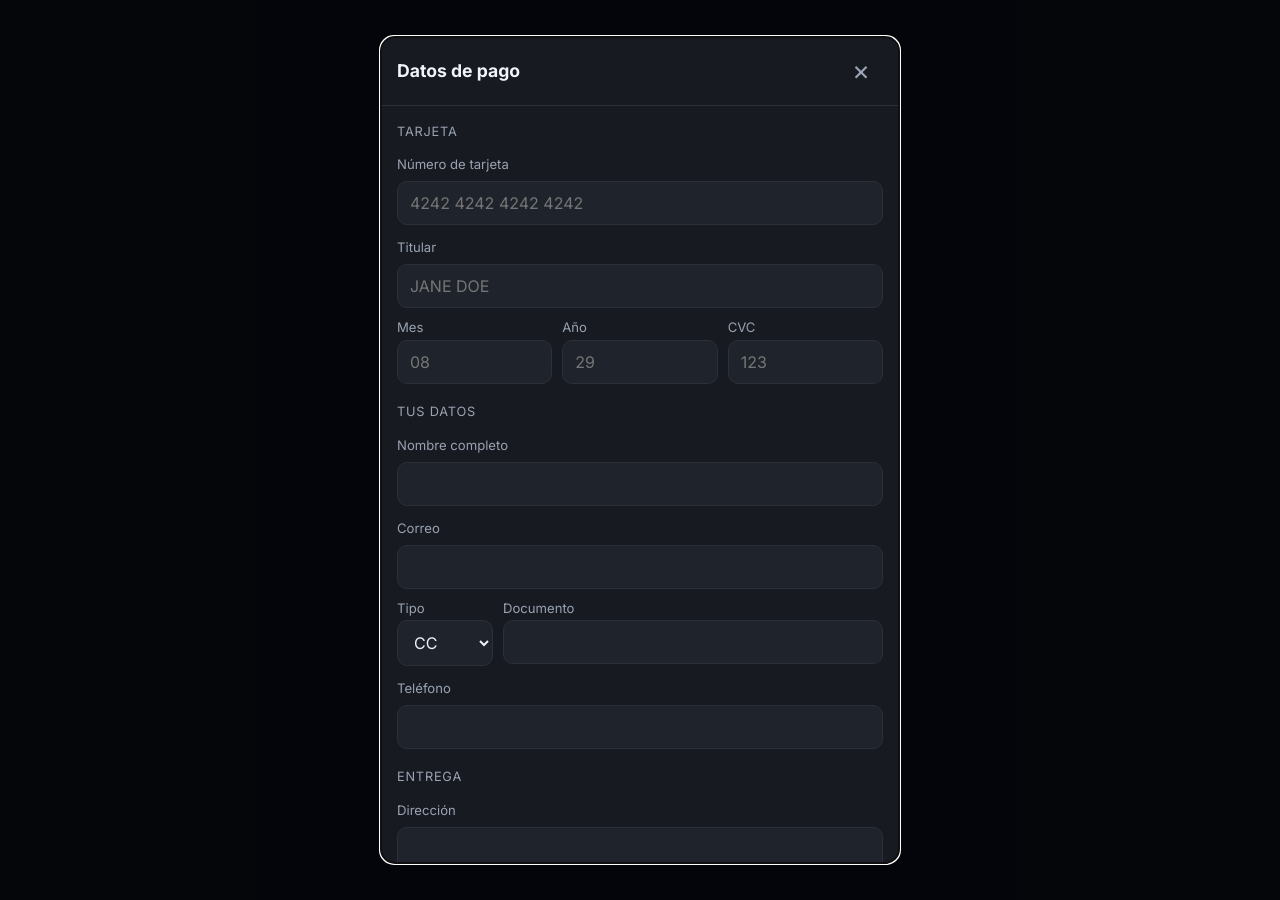
Test: PaymentModal › rejects a card number that fails the Luhn checksum
This screenshot has width=1280, height=900.
Type "1245425391111222" into the field labelled "Número de tarjeta" at (640, 204), box [397,182,883,226]
(page scrolled)
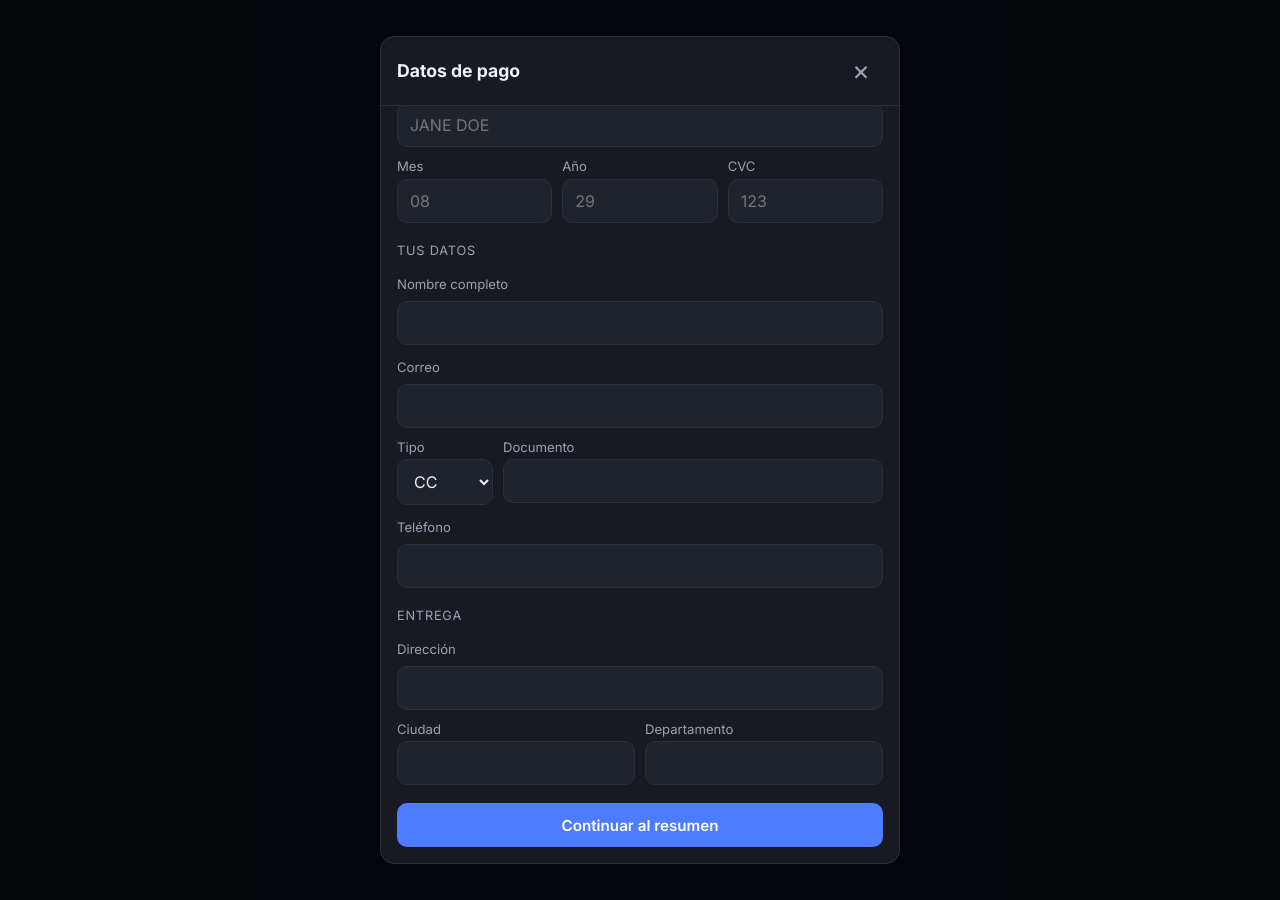
Click the button "Continuar al resumen" at (640, 825), box [397,803,883,847]
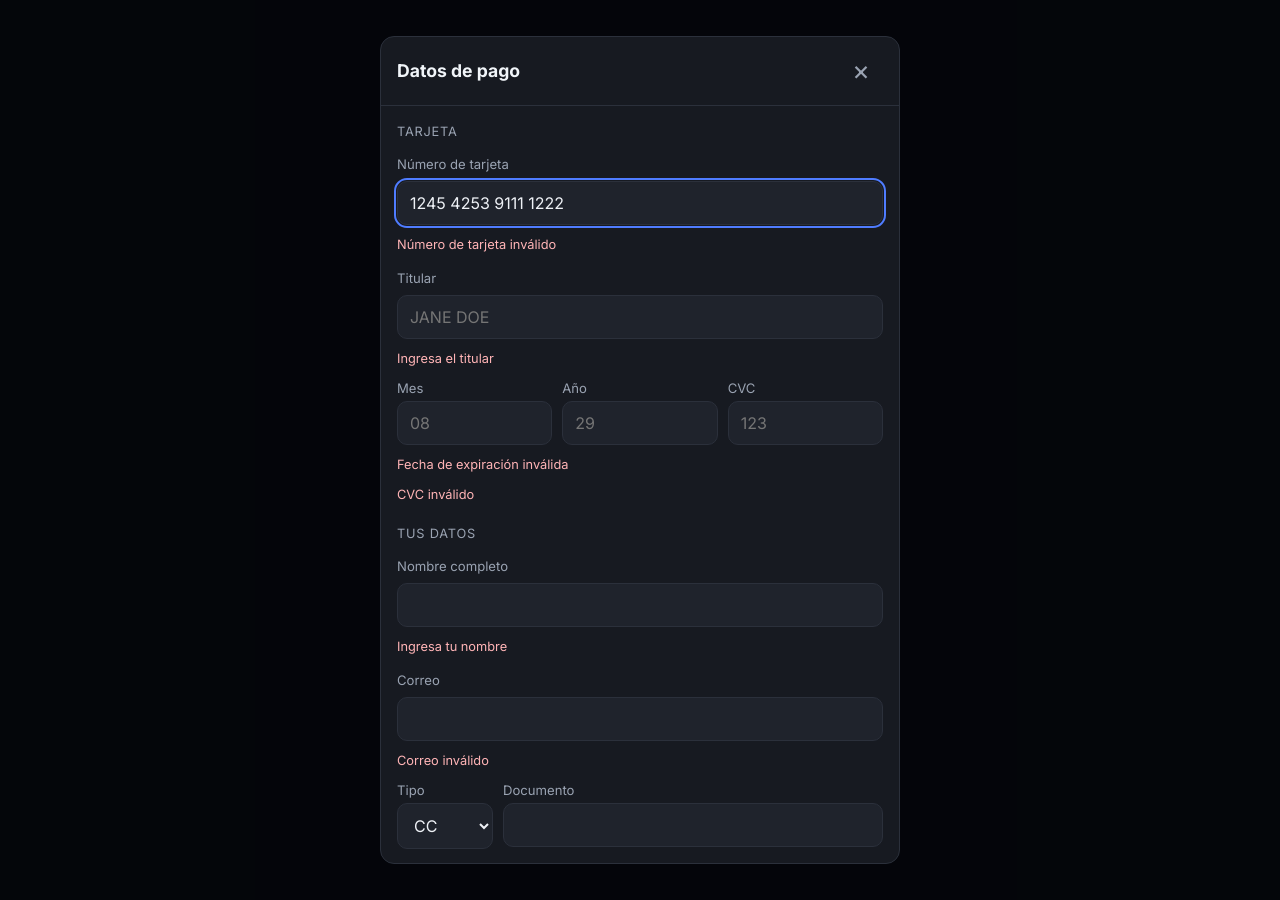
Now the text "Número de tarjeta inválido" is shown, box [397,238,556,252]
